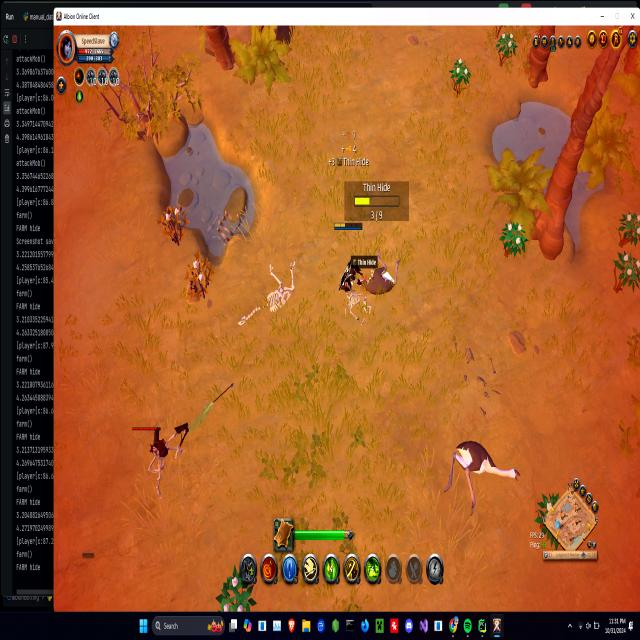hide: (212, 558, 257, 612), (611, 248, 640, 296), (185, 254, 212, 304), (160, 202, 185, 248), (501, 219, 526, 260), (616, 208, 640, 248), (451, 57, 470, 91), (496, 29, 515, 62)
mob: (446, 438, 520, 510), (357, 248, 401, 300)
ore: (128, 417, 194, 501)
red: (334, 218, 366, 298)
